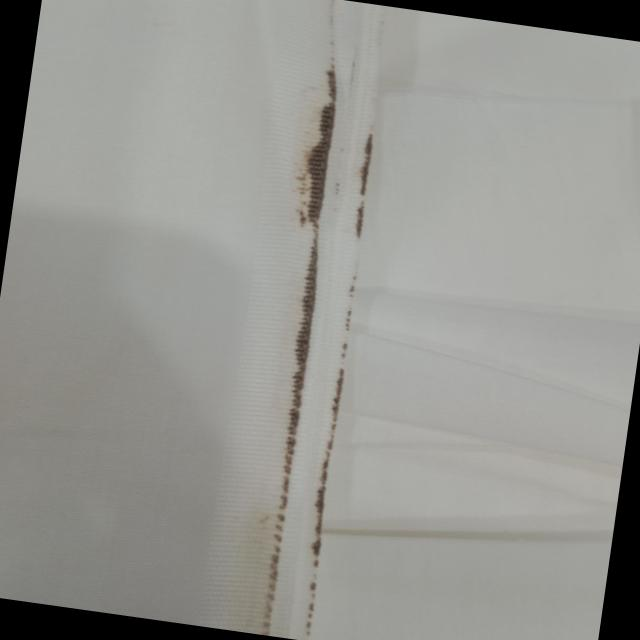stain: (233, 0, 410, 640)
